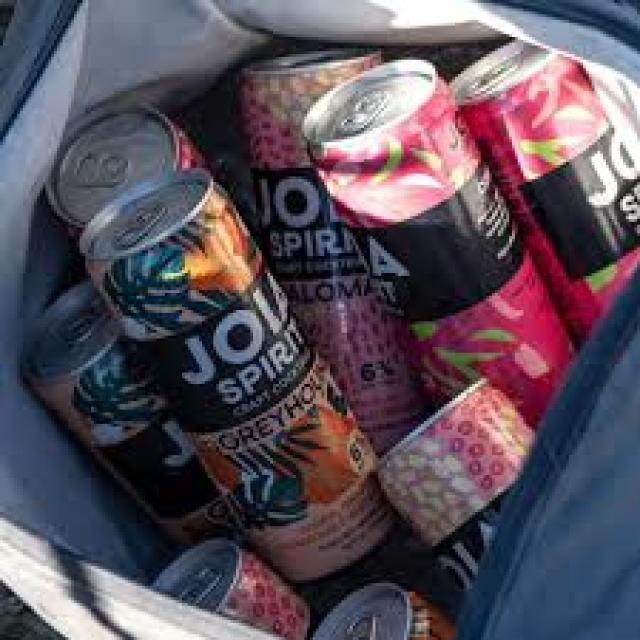Cans: (88, 174, 390, 560), (298, 57, 574, 418)
